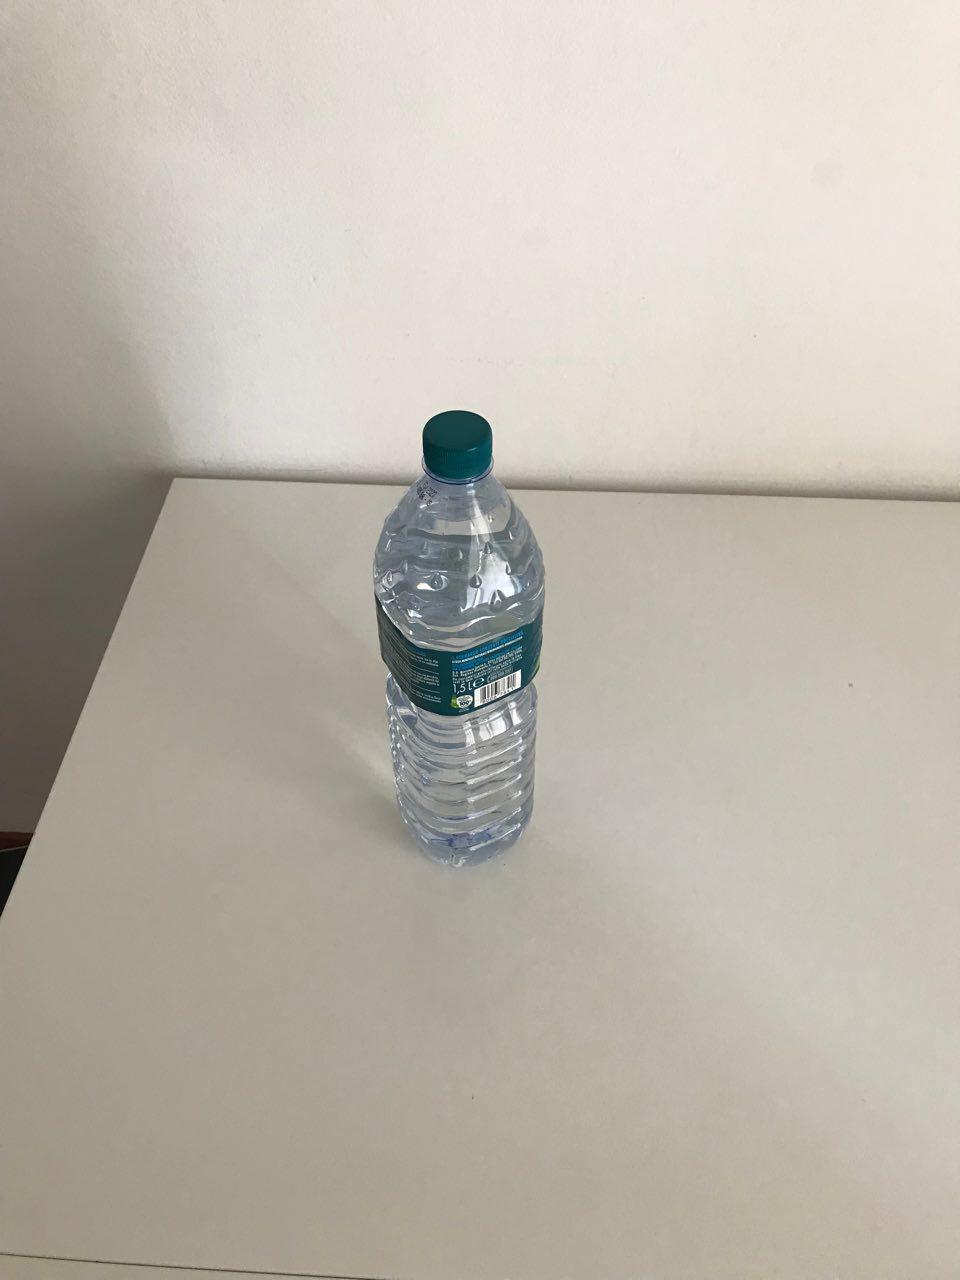san_bernardo: (369, 407, 548, 871)
